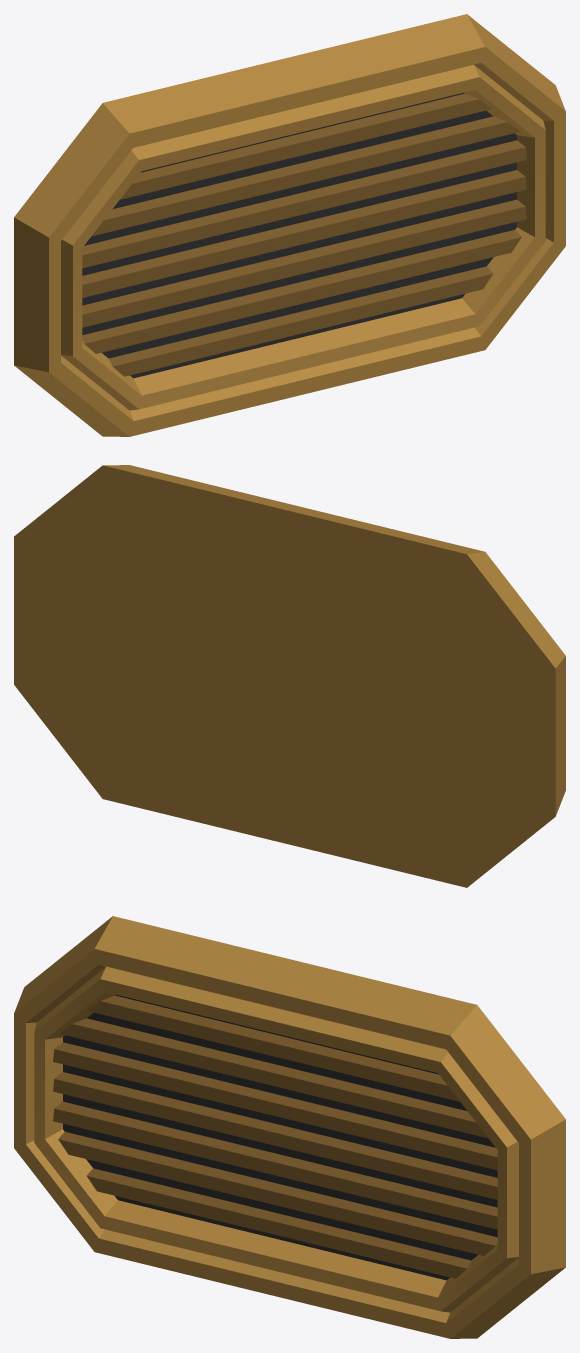
Rendered from Details_Vent_1.glb.
3 views of the same model, one above another, from view 1: azimuth 30°, elevation 25°; view 2: azimuth 150°, elevation 25°; view 3: azimuth 330°, elevation 25° (orthographic).
Parts seen in each view (by area): view 1: Details_Vent_1; view 2: Details_Vent_1; view 3: Details_Vent_1.
Part boxes in pixels (x1=…): Details_Vent_1: x1=14, y1=14, x2=565, y2=436; Details_Vent_1: x1=14, y1=465, x2=565, y2=887; Details_Vent_1: x1=14, y1=916, x2=565, y2=1338.
Size of the model in its own units: 0.179 by 0.1054 by 0.014.
